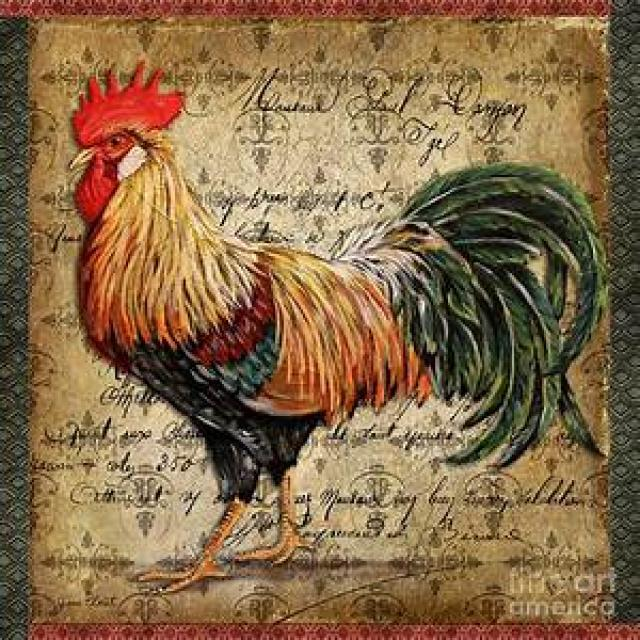hen: (70, 62, 608, 585)
